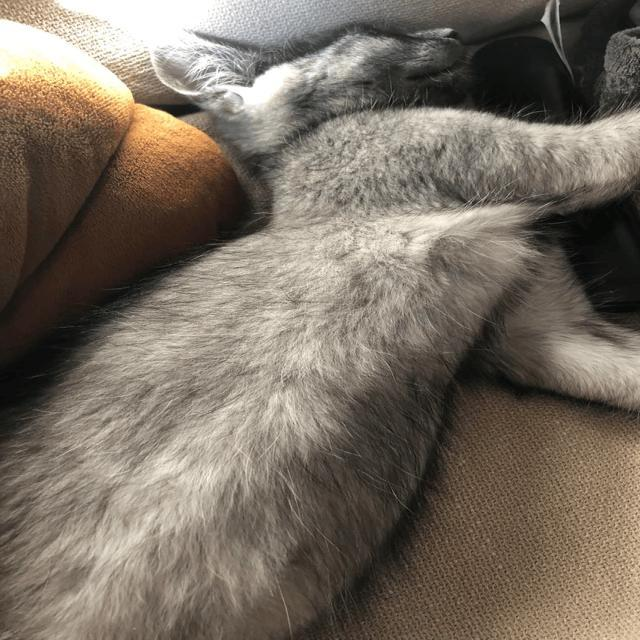Healthy skin: (38, 449, 255, 608), (218, 303, 399, 437), (342, 143, 467, 231), (98, 349, 204, 426), (230, 246, 421, 288), (477, 267, 568, 352), (274, 81, 344, 136), (533, 139, 621, 171)
